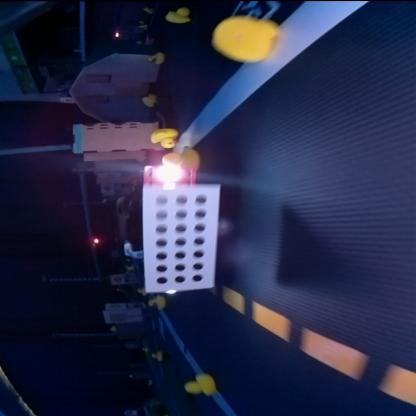Duckie: (211, 17, 280, 62), (162, 146, 200, 168), (184, 375, 214, 396), (150, 127, 178, 148), (164, 8, 188, 22), (147, 295, 165, 309), (148, 52, 164, 64), (142, 94, 156, 106), (151, 351, 161, 361)
Duckiebot: (129, 166, 221, 292)
QR code: (232, 1, 278, 17)
